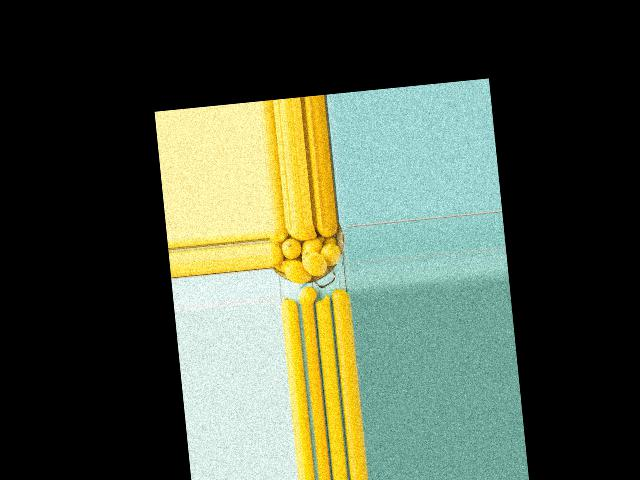lemon: (269, 226, 292, 242)
